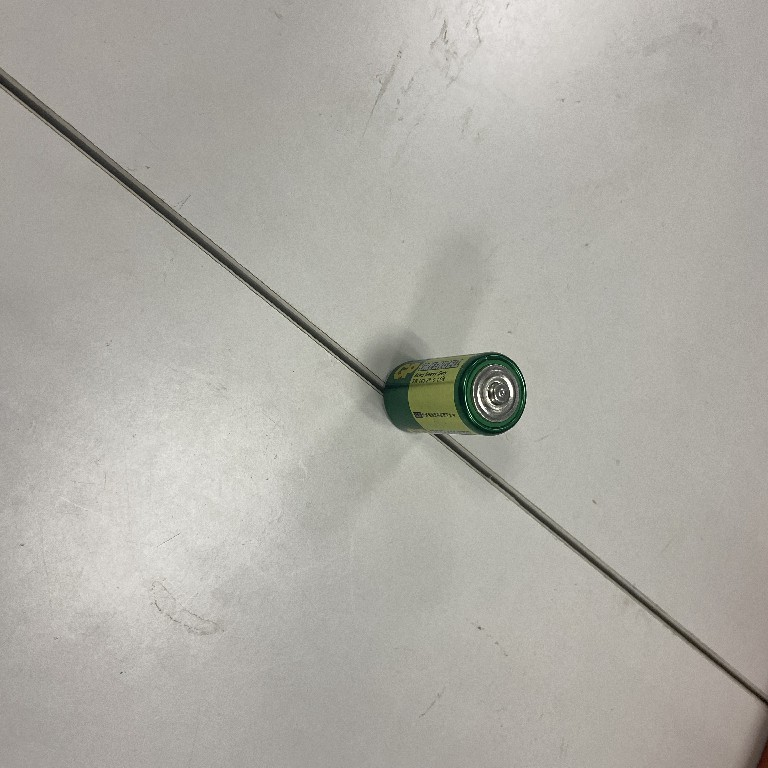charge: (380, 350, 529, 438)
